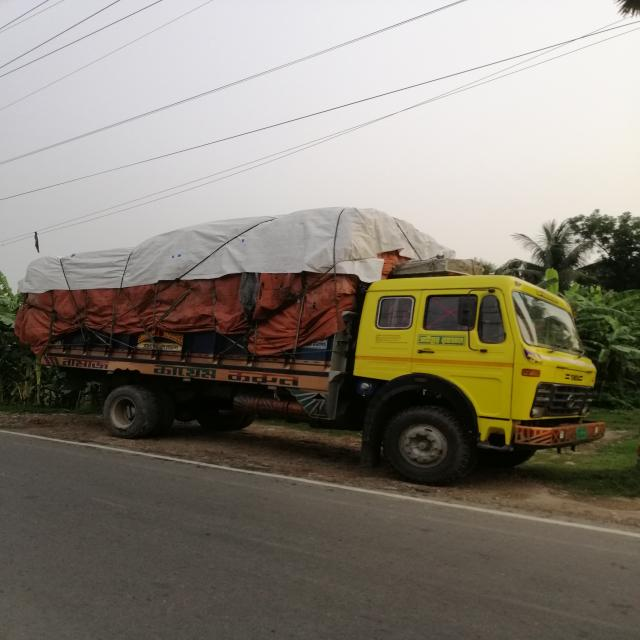Truck: (1, 207, 636, 489)
